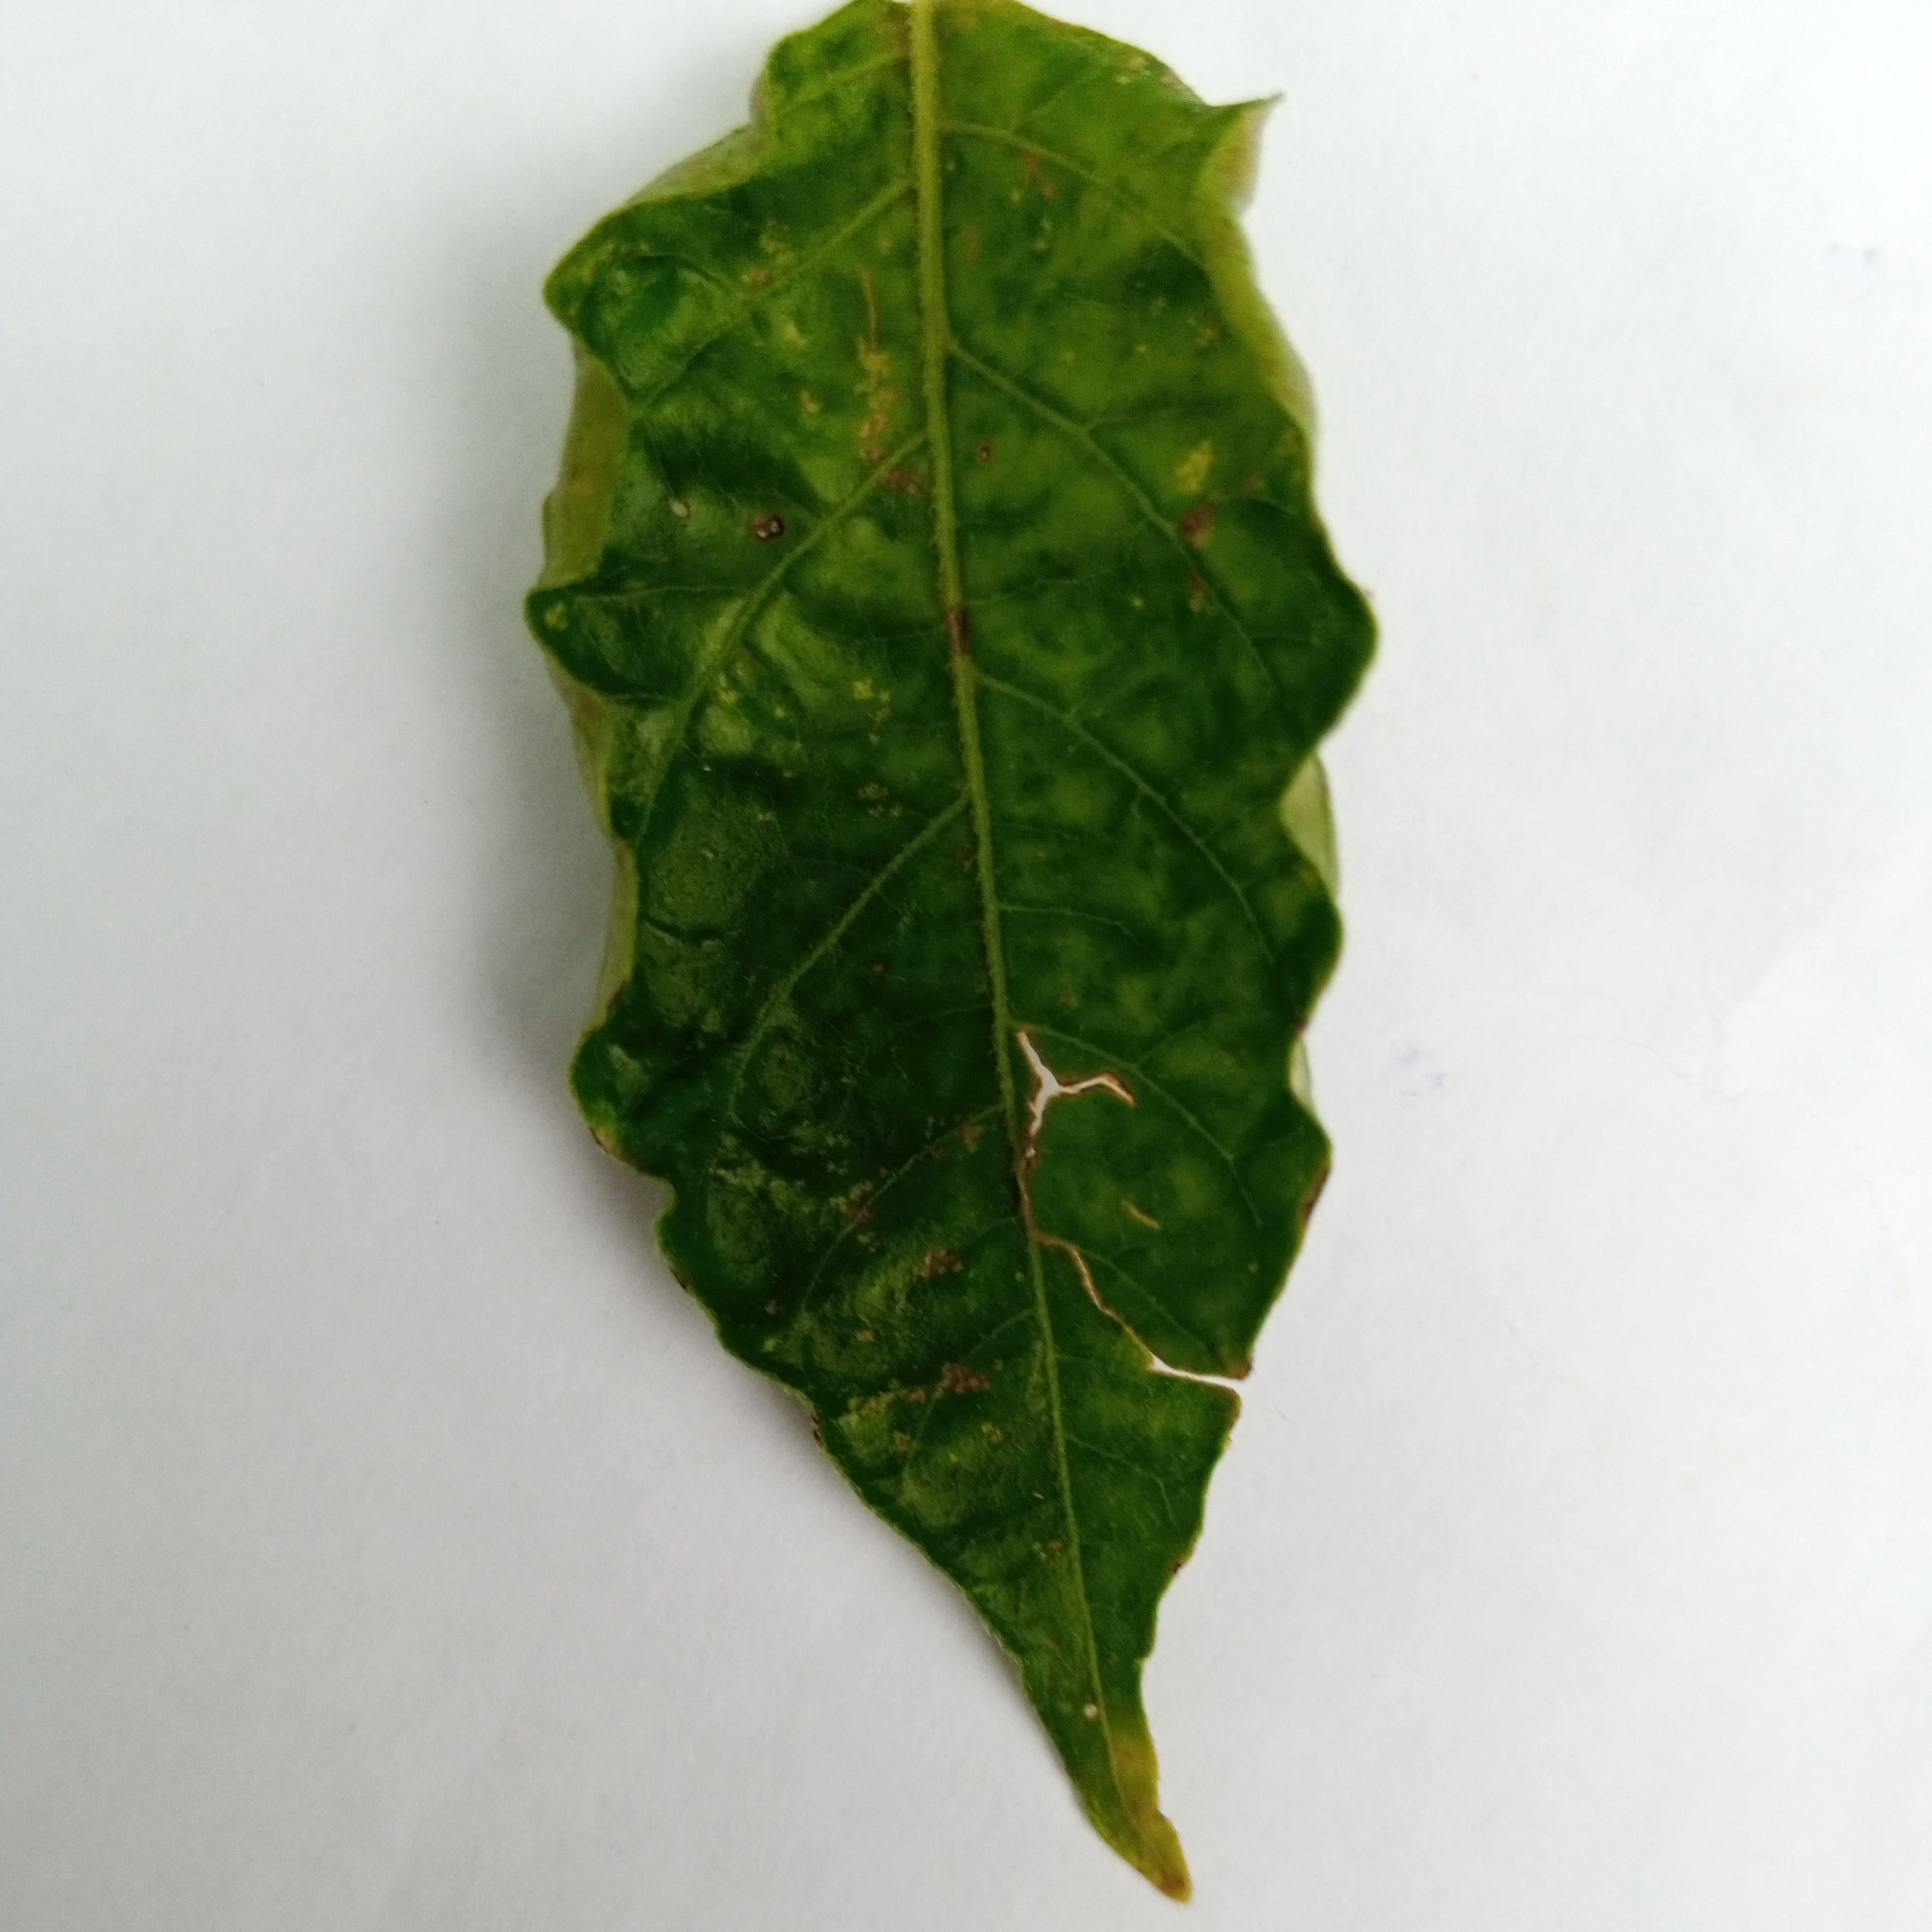Leaf: (386, 5, 1614, 1932)
